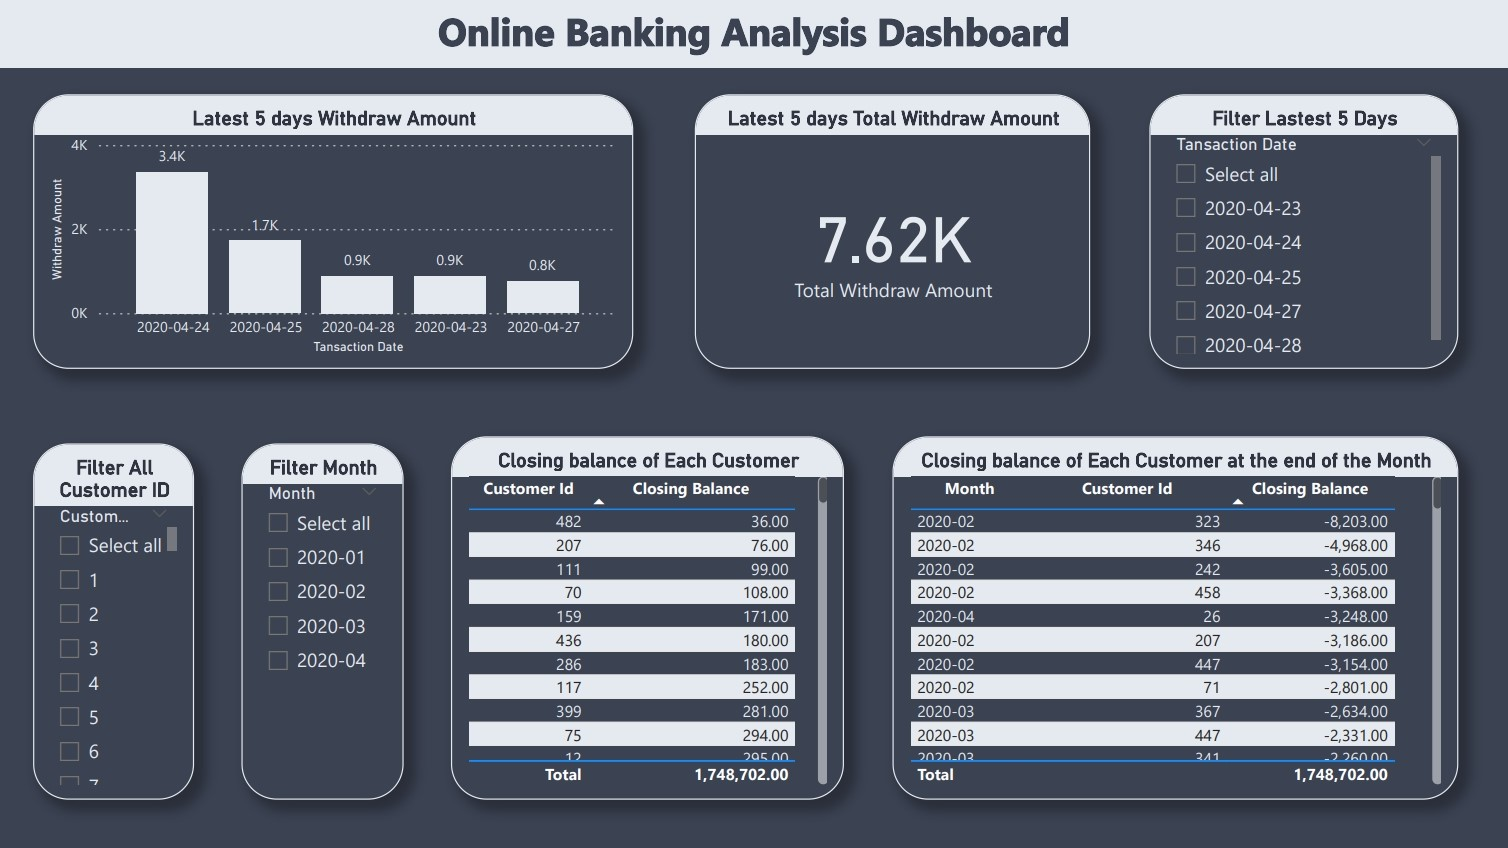

Layout of this report page (visuals, bound fields, positions):
{"tool":"powerbi","page":{"name":"Page 2","canvas":[1280,720],"ordinal":1},"visuals":[{"type":"textbox","box":[0,0,1280,59],"z":0},{"type":"tableEx","title":"Closing balance of Each Customer at the end of the Month","fields":{"Values":["Query7.month","Query7.customer_id","Sum(Query7.closing_balance)"]},"box":[756.9,369.7,478.5,307.3],"z":1000},{"type":"slicer","title":"Filter Month","fields":{"Values":["Query7.month"]},"box":[207.2,375.8,137,301.2],"z":2000},{"type":"slicer","title":"Filter All Customer ID","fields":{"Values":["Query6.customer_id"]},"box":[30.7,375.8,136.1,301.2],"z":3000},{"type":"tableEx","title":"Closing balance of Each Customer","fields":{"Values":["Query6.customer_id","Sum(Query6.closing_balance)"]},"box":[383.7,369.7,332.8,307.3],"z":4000},{"type":"columnChart","title":"Latest 5 days Withdraw Amount","fields":{"Category":["Query8.tansaction_date"],"Y":["Sum(Query8.total_withdraw_amount)"]},"box":[30.7,80.8,507.5,231.8],"z":5000},{"type":"card","title":"Latest 5 days Total Withdraw Amount","fields":{"Values":["Sum(Query8.total_withdraw_amount)"]},"box":[590,80.8,333.7,231.8],"z":6000},{"type":"slicer","title":"Filter Lastest 5 Days","fields":{"Values":["Query8.tansaction_date"]},"box":[973.8,80.8,261.7,231.8],"z":7000}]}

Visuals, with their boxes in screenshot pixels (x1, y1, x2, y2), scaled from the page's 1280x720 canvas onto the 1508x848 screenshot:
textbox: (x1=0, y1=0, x2=1507, y2=69)
"Closing balance of Each Customer at the end of the Month" tableEx: (x1=892, y1=435, x2=1455, y2=797)
"Filter Month" slicer: (x1=244, y1=443, x2=406, y2=797)
"Filter All Customer ID" slicer: (x1=36, y1=443, x2=197, y2=797)
"Closing balance of Each Customer" tableEx: (x1=452, y1=435, x2=844, y2=797)
"Latest 5 days Withdraw Amount" columnChart: (x1=36, y1=95, x2=634, y2=368)
"Latest 5 days Total Withdraw Amount" card: (x1=695, y1=95, x2=1088, y2=368)
"Filter Lastest 5 Days" slicer: (x1=1147, y1=95, x2=1456, y2=368)
